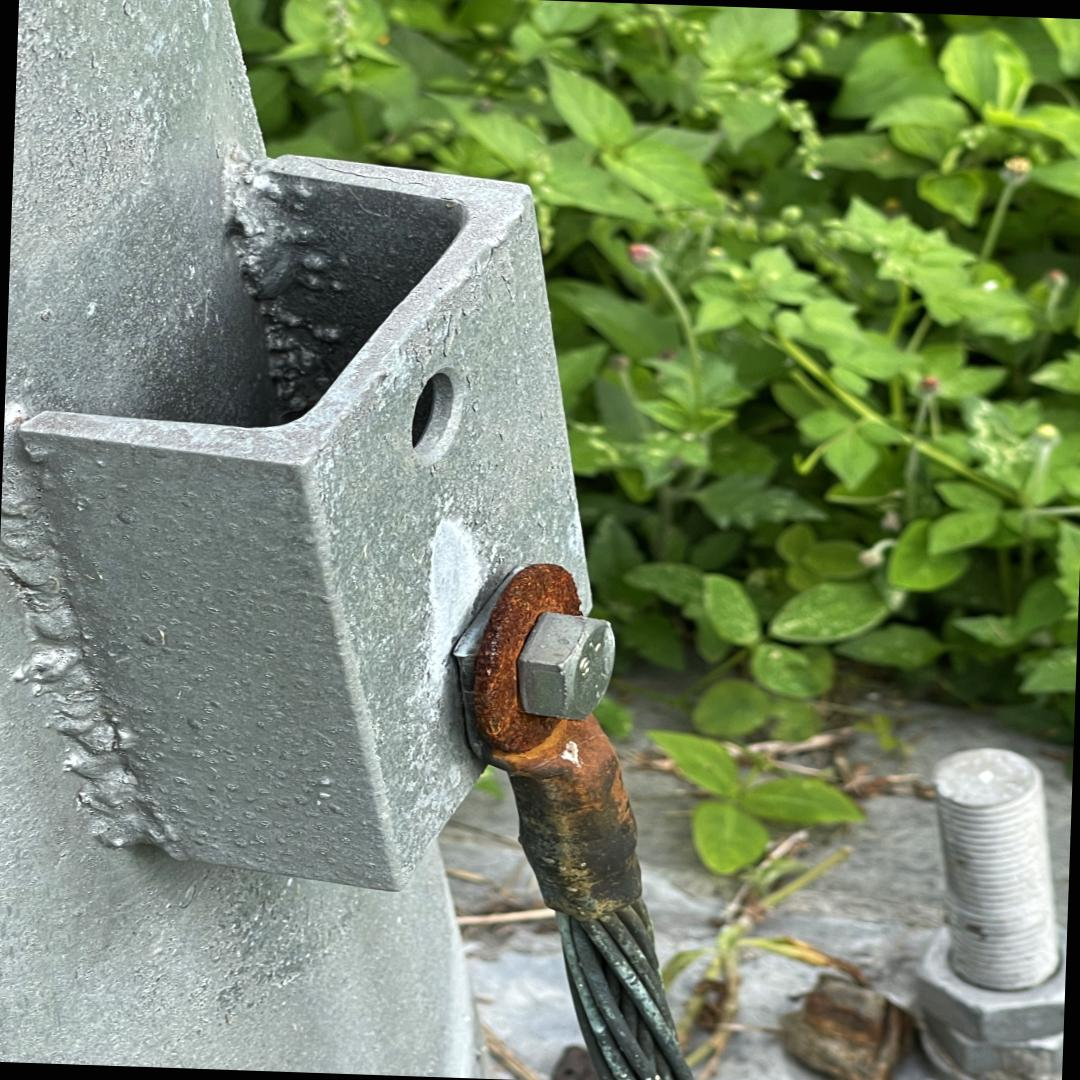Metal corroido: (462, 563, 619, 802)
Tornillo sin corrosion: (514, 611, 616, 721)
